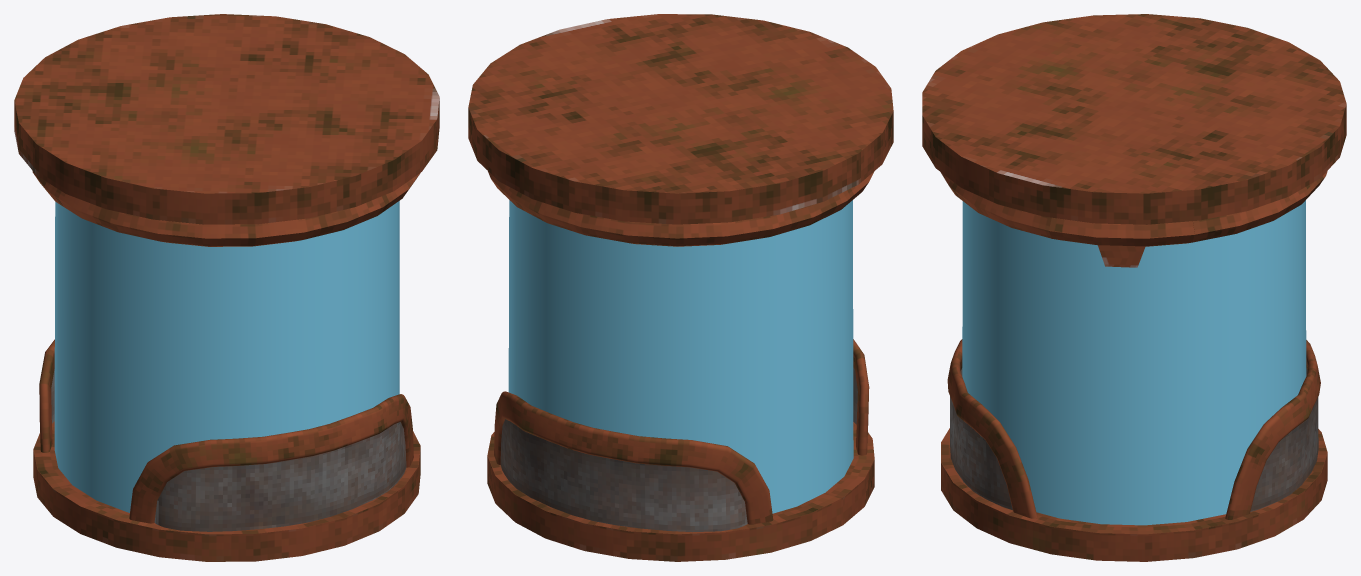
File: SM_Energy.fbx
3 renders of one model, left to right at view 1: azimuth 30°, elevation 25°; view 2: azimuth 150°, elevation 25°; view 3: azimuth 270°, elevation 25°, orthographic.
Parts seen in each view (by area): view 1: SM_Energy; view 2: SM_Energy; view 3: SM_Energy.
Part boxes in pixels (<box>): SM_Energy: <box>14,14,439,561</box>; SM_Energy: <box>468,14,893,561</box>; SM_Energy: <box>922,14,1346,561</box>.
Bounding box in the file's own units: 45.48 × 49.42 × 45.39.
